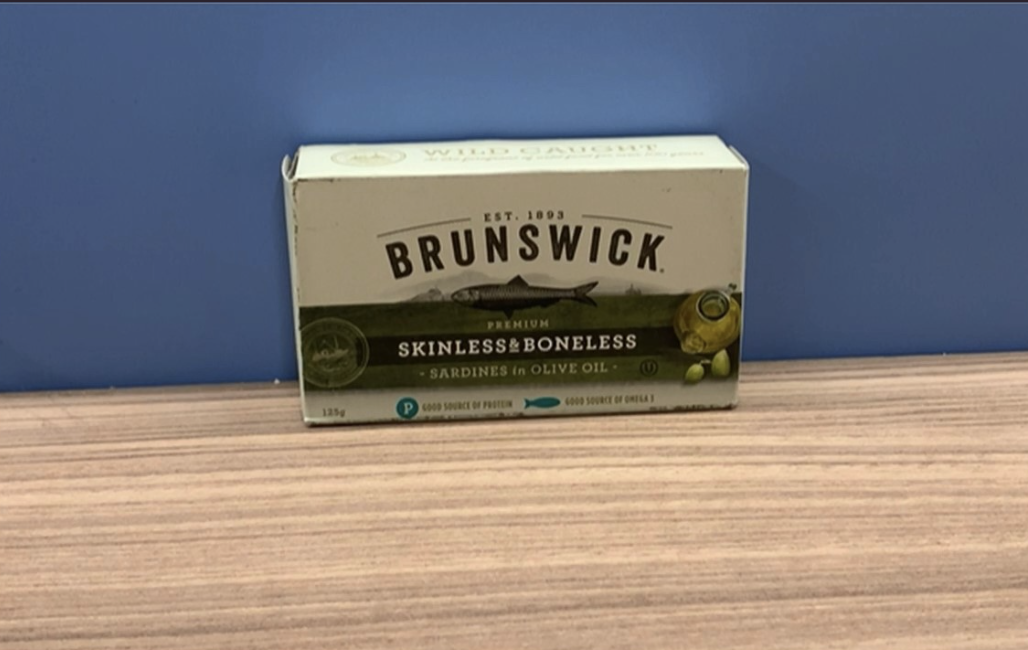sardines_100g-199g: (308, 197, 738, 412)
